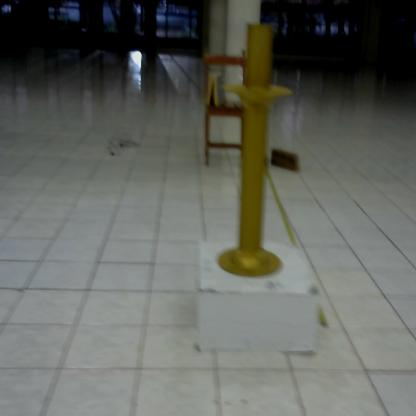pole: (215, 22, 293, 281)
